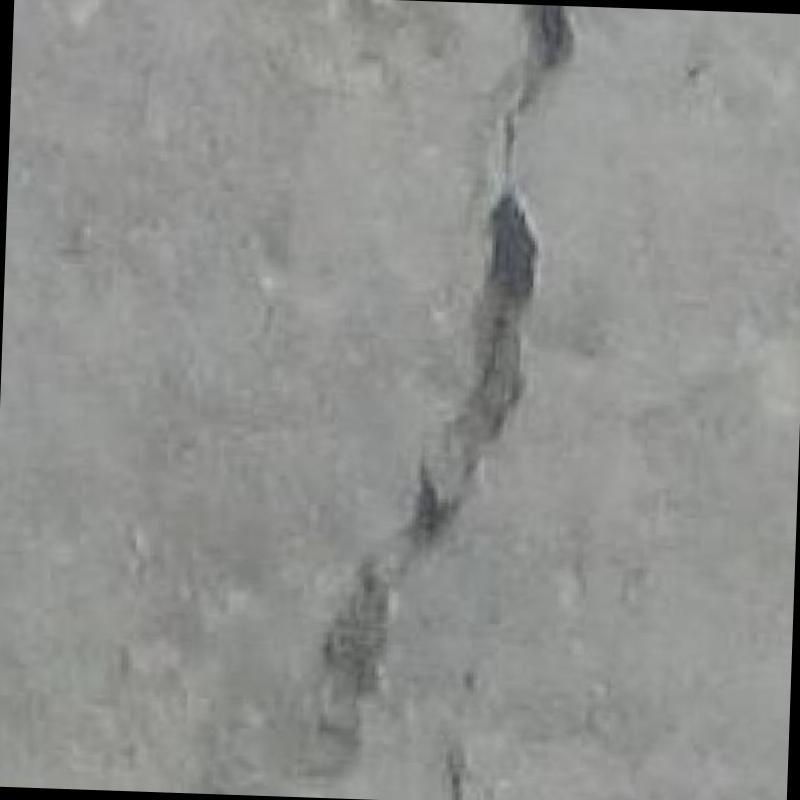crack: (323, 4, 572, 695)
